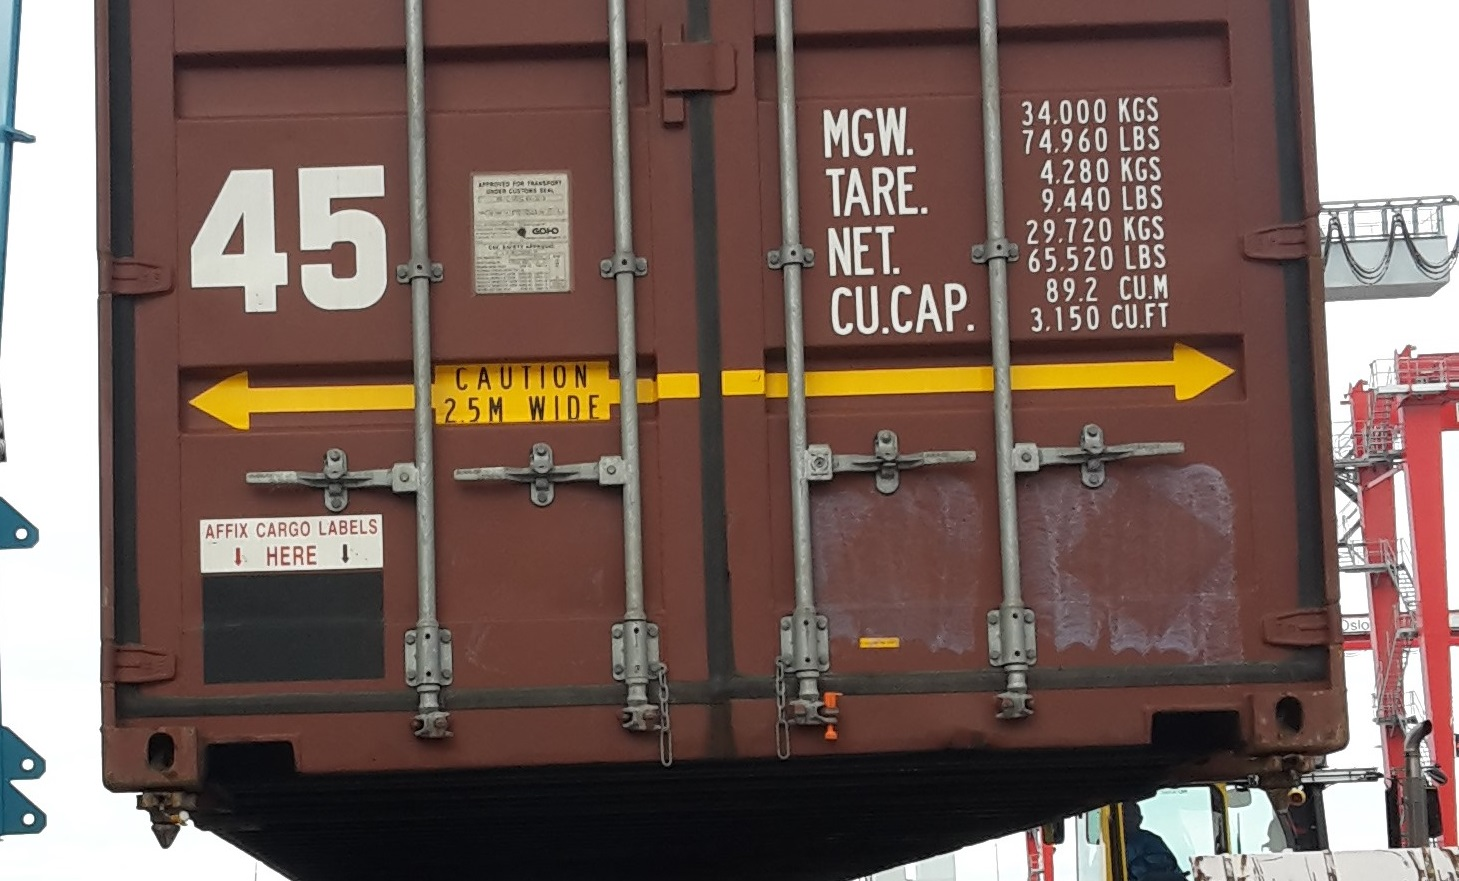container_door: (95, 1, 1340, 787)
